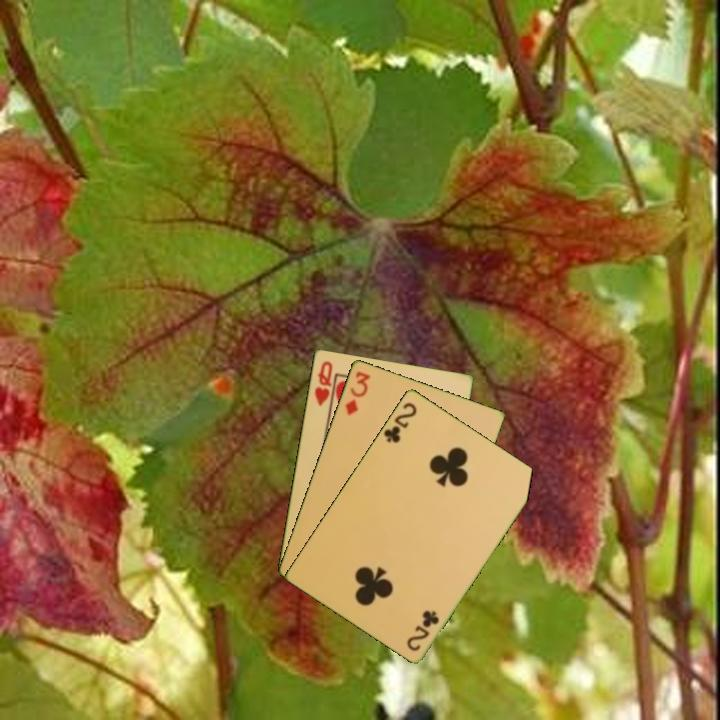2c: (380, 398, 420, 446), (403, 607, 442, 654)
3d: (341, 367, 373, 418)
Qh: (311, 357, 335, 408)
